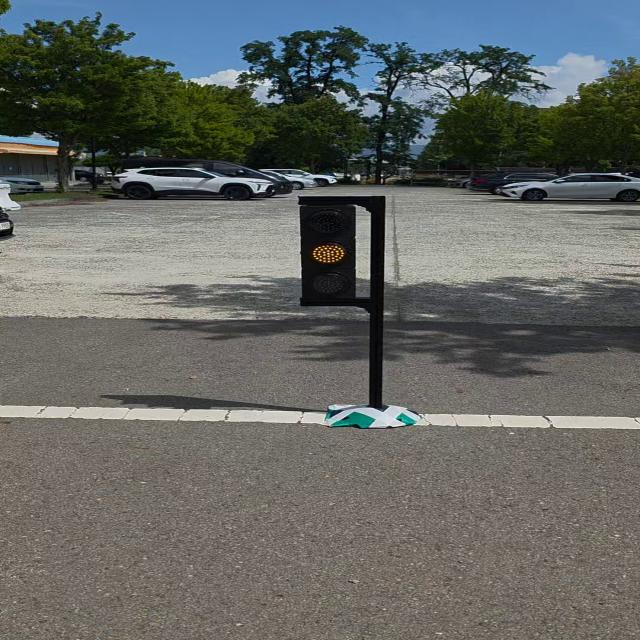yellow: (286, 202, 366, 306)
